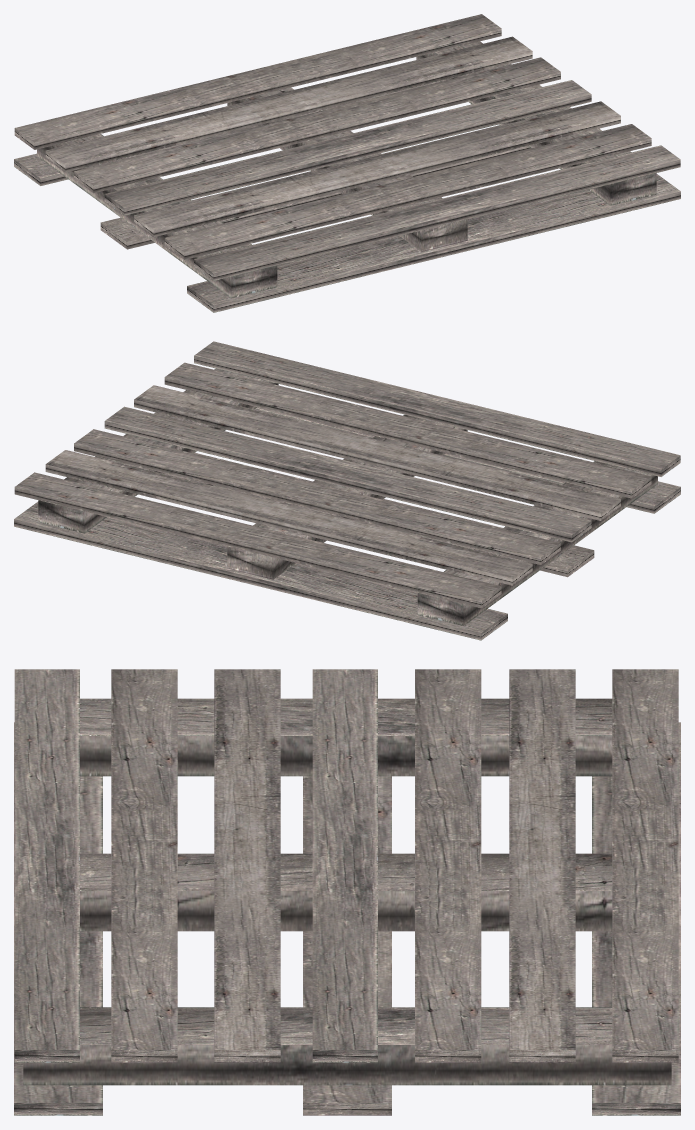
The model's file is cargo_palette.fbx.
3 views of the same model, one above another, from view 1: azimuth 30°, elevation 25°; view 2: azimuth 150°, elevation 25°; view 3: azimuth 270°, elevation 25° (orthographic). The views are drawn at different scales.
Parts seen in each view (by area): view 1: Mesh; view 2: Mesh; view 3: Mesh.
Boxes of the visible parts, x1,y1,x2,y2 form: Mesh: (14, 14, 680, 312); Mesh: (14, 341, 680, 640); Mesh: (14, 669, 680, 1115).
Bounding box in the file's own units: 162 × 13 × 120.
Materials: 1 (1 with a texture image).
